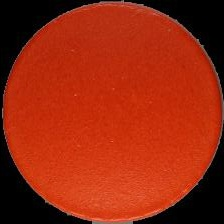33261-363: (0, 0, 224, 224)
